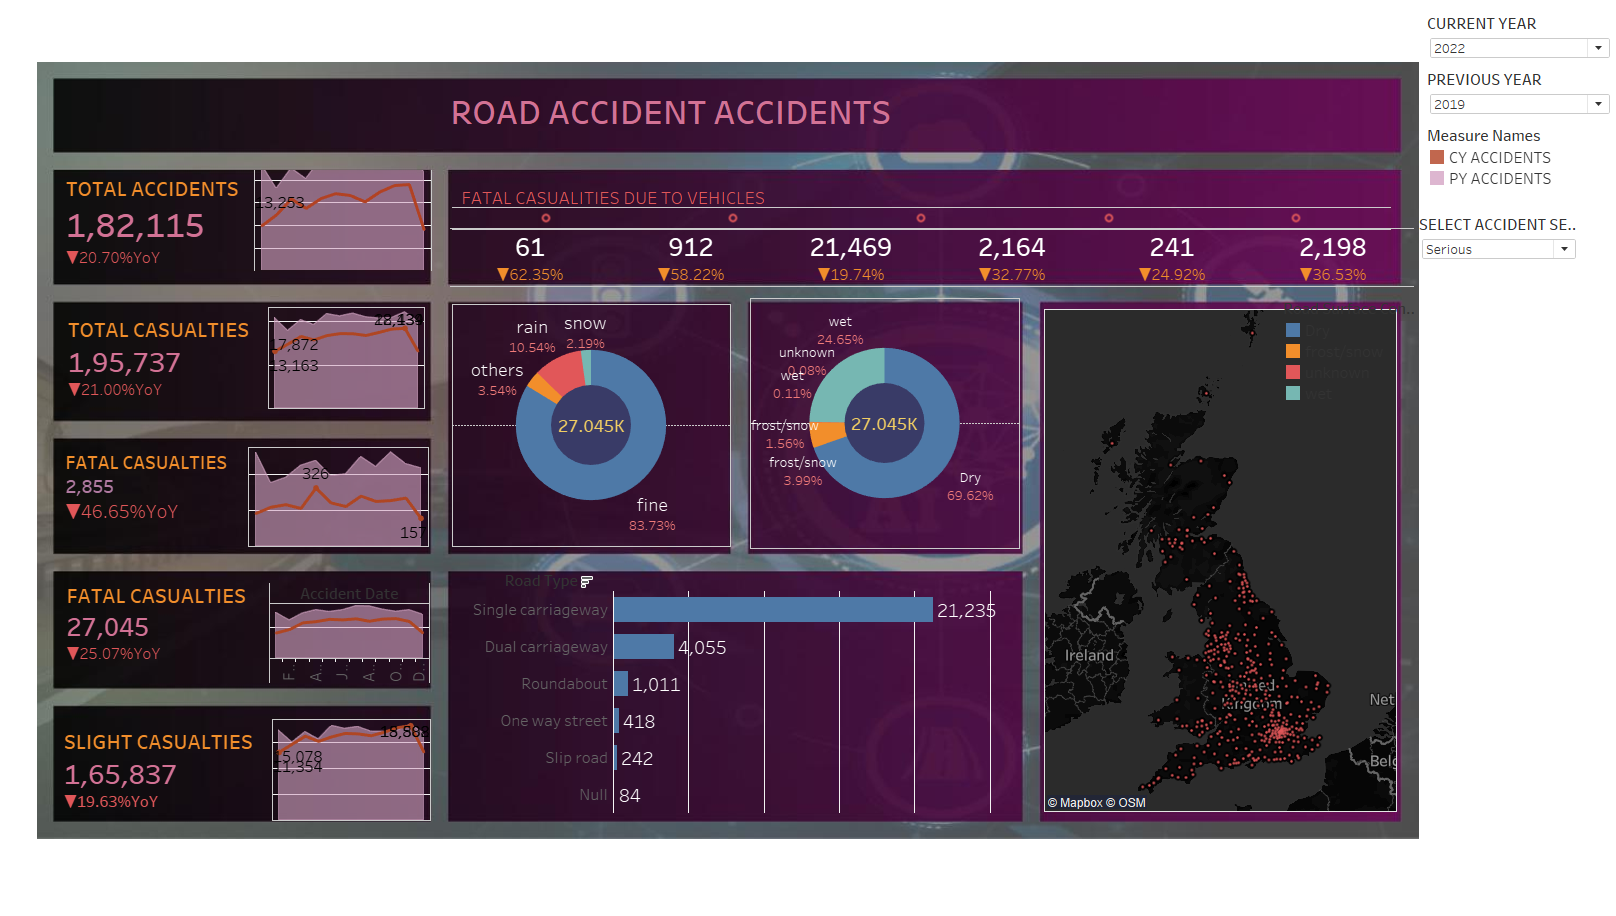

The page's visual inventory and layout, read from the dashboard file:
{"tool":"tableau","page":{"name":"Dashboard 1","canvas":[1600,900],"ordinal":0},"visuals":[{"type":"image","param":"C:/Users/saksh/Downloads/Background.pptx.jpg","box":[8,8,1390,884]},{"type":"parameter","param":"[Parameters].[Parameter 1]","box":[1398,8,194,56]},{"type":"parameter","param":"[Parameters].[CURRENT YEAR (copy)_967429514374389761]","box":[1398,64,194,56]},{"type":"text","box":[422,70,483,79]},{"type":"legend","title":"ACCIDENT SPARKLINE","param":"[federated.0lvmy480z5f2qh10376ht1gmmsa0].[:Measure Names]","box":[1398,120,194,72]},{"type":"worksheet","title":"TOTAL ACCIDENTS","mark":"Automatic","box":[33,165,192,109]},{"type":"worksheet","title":"ACCIDENT SPARKLINE","mark":"Automatic","rows":["CY ACCIDENTS (copy)_967429514376192004","Calculation_967429514374811650"],"cols":["Accident Date"],"box":[225,165,185.9,109]},{"type":"text","box":[433,182,320,28]},{"type":"worksheet","title":"vehicle images","mark":"Shape","box":[427,206,939,23]},{"type":"parameter","param":"[Parameters].[Parameter 2]","box":[1394,213,160,48]},{"type":"worksheet","title":"VEHICEL TYPE KPI","mark":"Text","box":[425,227,964,59]},{"type":"worksheet","title":"ROAD CONDITION 2","mark":"Pie","rows":["Calculation_1031324335394385921","Calculation_1031324335394406403"],"box":[725,297,270,251]},{"type":"legend","title":"ROAD CONDITION 2","param":"[federated.0lvmy480z5f2qh10376ht1gmmsa0].[Road Surface Conditions (group)]","box":[1258,297,140,106]},{"type":"worksheet","title":"TOTAL CASUALTIES","mark":"Automatic","box":[35,302,204,110]},{"type":"worksheet","title":"TOTAL CASUALTIES SPARKLINE ","mark":"Area","rows":["Calculation_967429514387279878","PY CASUALTIES (copy)_967429514388951049"],"cols":["Accident Date"],"box":[239,302,164.9,110]},{"type":"worksheet","title":"WEATHER CONDITION","mark":"Pie","rows":["Calculation_1031324335394385921","Calculation_1031324335394406403"],"box":[427,303,279,243]},{"type":"worksheet","title":"BY LOCATION","mark":"Automatic","rows":["Latitude"],"cols":["Longitude"],"box":[1019,308,353,503]},{"type":"worksheet","title":"FATAL CASUALTIES","mark":"Automatic","box":[32,442,187,108]},{"type":"worksheet","title":" TOTAL FALAT CASUALTIES SPARKLINE ","mark":"Automatic","rows":["CY FATAL CASUALTIES (copy)_967429514392354829","Calculation_967429514390937611"],"cols":["Accident Date"],"box":[219,442,188.9,108]},{"type":"worksheet","title":"ROAD TYPE","mark":"Automatic","rows":["Road_Type"],"cols":["PY CASUALTIES (copy)_967429514388951049"],"box":[428,570,564,242]},{"type":"worksheet","title":"SERIOUS CASUALTIES ","mark":"Automatic","box":[33,578,207,110]},{"type":"worksheet","title":"TOTAL SERIOUS CASUALTIES SPARKLINE (2)","mark":"Automatic","rows":["PY FATAL CASUALTIES  (copy)_967429514393362448","CY FATAL CASUALTIES (copy)_967429514393165839"],"cols":["Accident Date"],"box":[240,578,169,110]},{"type":"worksheet","title":"SLIGHT CASUALTIES ","mark":"Automatic","box":[31,714,212,110]},{"type":"worksheet","title":"TOTAL SLIGHT  CASUALTIES SPARKLINE ","mark":"Area","rows":["PY FATAL CASUALTIES  (copy)_967429514394148883","CY SERIOUS CASUALTIES  (copy)_967429514394030098"],"cols":["Accident Date"],"box":[243,714,166.8,110]}]}

Visuals, with their boxes in screenshot pixels (x1, y1, x2, y2):
image: x1=29, y1=8, x2=1414, y2=888
parameter: x1=1414, y1=8, x2=1607, y2=64
parameter: x1=1414, y1=64, x2=1607, y2=120
text: x1=441, y1=70, x2=922, y2=148
"ACCIDENT SPARKLINE" legend: x1=1414, y1=120, x2=1607, y2=191
"TOTAL ACCIDENTS" worksheet: x1=54, y1=164, x2=245, y2=273
"ACCIDENT SPARKLINE" worksheet: x1=245, y1=164, x2=430, y2=273
text: x1=452, y1=181, x2=771, y2=209
"vehicle images" worksheet (Shape marks): x1=446, y1=205, x2=1382, y2=228
parameter: x1=1410, y1=212, x2=1569, y2=260
"VEHICEL TYPE KPI" worksheet (Text marks): x1=444, y1=226, x2=1405, y2=285
"ROAD CONDITION 2" worksheet (Pie marks): x1=743, y1=296, x2=1012, y2=546
"ROAD CONDITION 2" legend: x1=1274, y1=296, x2=1414, y2=401
"TOTAL CASUALTIES" worksheet: x1=56, y1=301, x2=259, y2=410
"TOTAL CASUALTIES SPARKLINE " worksheet (Area marks): x1=259, y1=301, x2=423, y2=410
"WEATHER CONDITION" worksheet (Pie marks): x1=446, y1=302, x2=724, y2=544
"BY LOCATION" worksheet: x1=1036, y1=307, x2=1388, y2=808
"FATAL CASUALTIES" worksheet: x1=53, y1=440, x2=239, y2=548
" TOTAL FALAT CASUALTIES SPARKLINE " worksheet: x1=239, y1=440, x2=427, y2=548
"ROAD TYPE" worksheet: x1=447, y1=568, x2=1009, y2=809
"SERIOUS CASUALTIES " worksheet: x1=54, y1=576, x2=260, y2=685
"TOTAL SERIOUS CASUALTIES SPARKLINE (2)" worksheet: x1=260, y1=576, x2=428, y2=685
"SLIGHT CASUALTIES " worksheet: x1=52, y1=711, x2=263, y2=821
"TOTAL SLIGHT  CASUALTIES SPARKLINE " worksheet (Area marks): x1=263, y1=711, x2=429, y2=821
